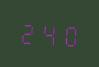four: (39, 19, 58, 47)
two: (18, 18, 37, 46)
zero: (59, 20, 78, 48)
